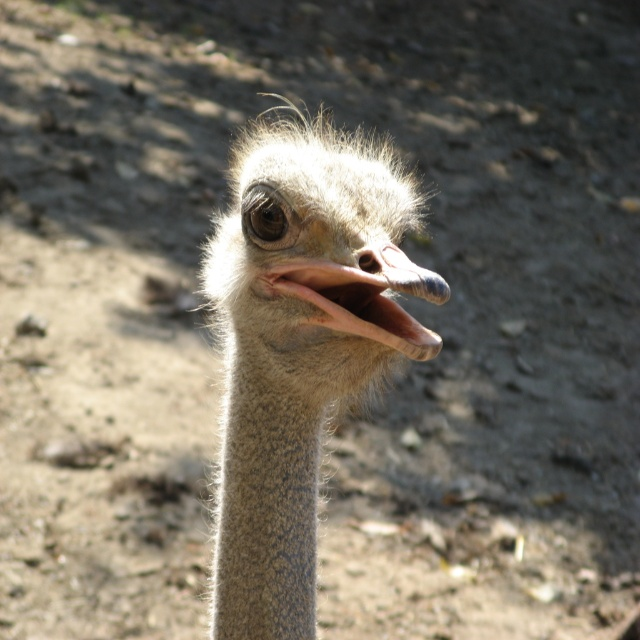Ostrich: (185, 93, 451, 640)
